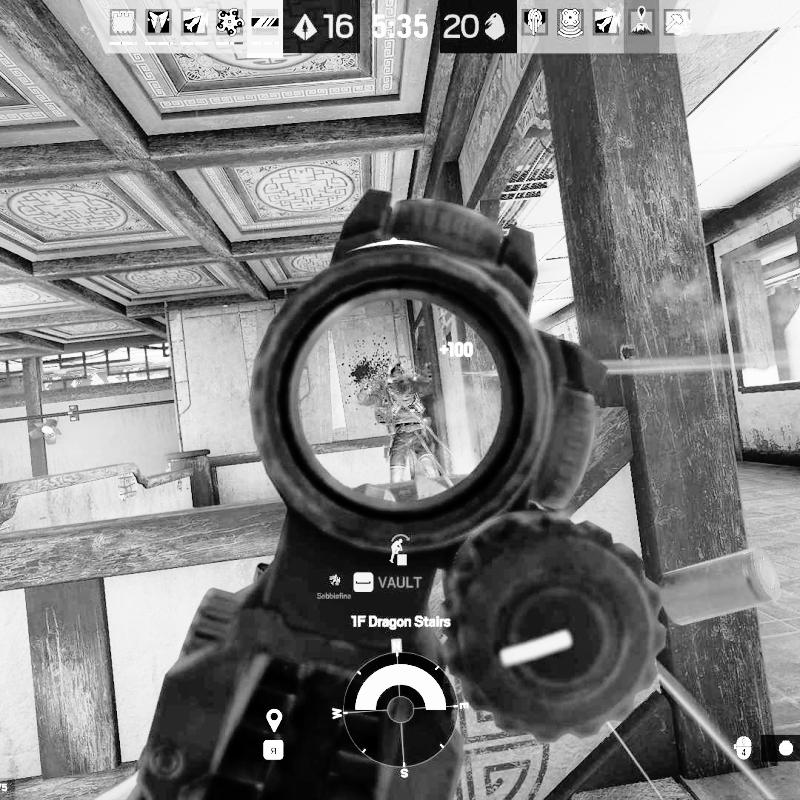Character: (356, 363, 443, 479)
Friend_label: (315, 573, 353, 601)
Head: (389, 364, 408, 384)
